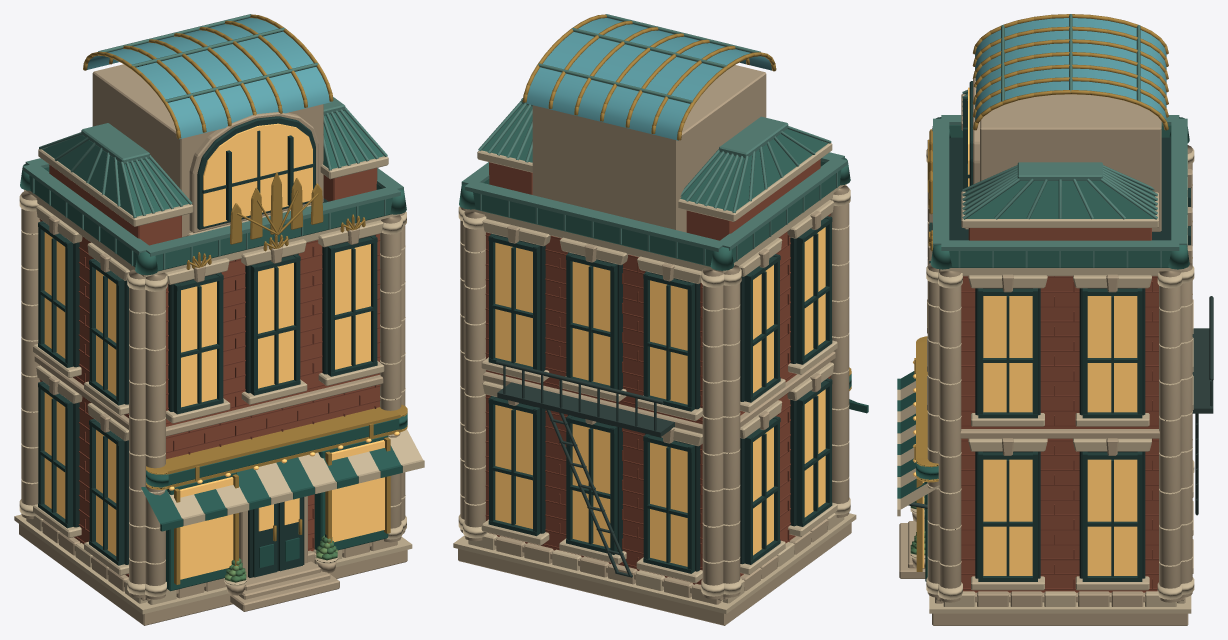
The picture shows the model from 3 angles, left to right: view 1: azimuth 30°, elevation 25°; view 2: azimuth 150°, elevation 25°; view 3: azimuth 270°, elevation 25°; orthographic projection. The views are drawn at different scales.
Parts seen in each view (by area): view 1: expansion_shop_3_geometry; view 2: expansion_shop_3_geometry; view 3: expansion_shop_3_geometry.
Boxes of the visible parts, bbox=[...] form: expansion_shop_3_geometry: bbox=[14, 14, 424, 625]; expansion_shop_3_geometry: bbox=[453, 14, 868, 625]; expansion_shop_3_geometry: bbox=[897, 14, 1213, 625].
Size of the model in its own units: 0.99 by 1.71 by 0.9618.
